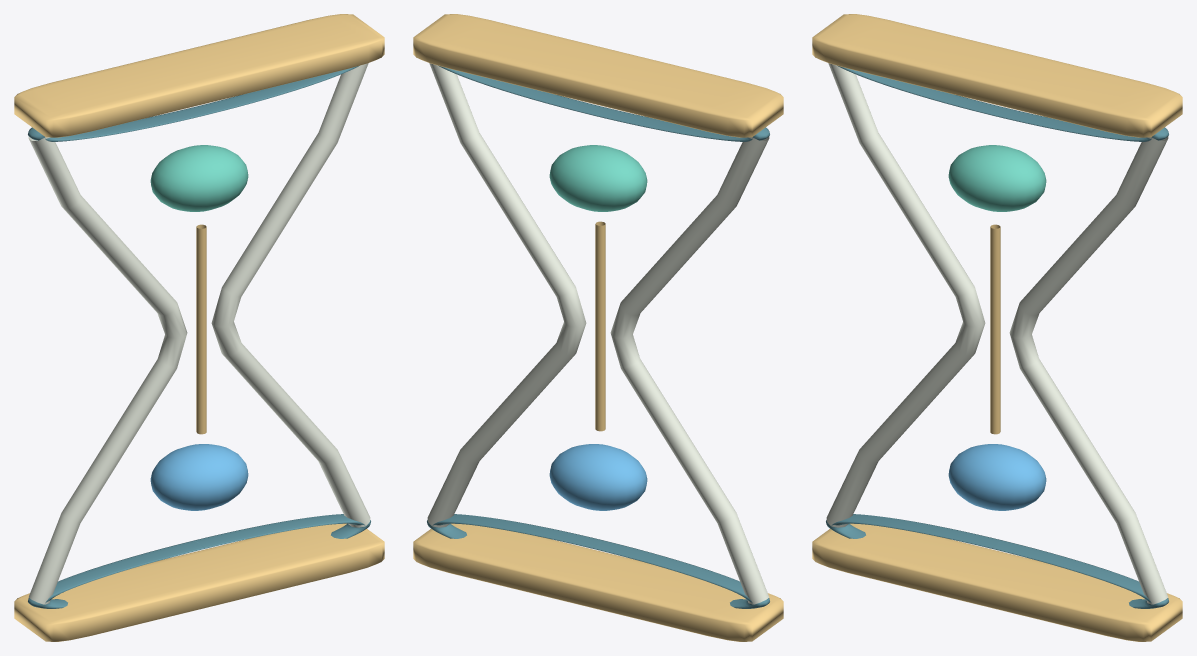
The model's file is extendedExhale.glb.
3 views of the same model, side by side, from view 1: azimuth 30°, elevation 25°; view 2: azimuth 150°, elevation 25°; view 3: azimuth 330°, elevation 25° (orthographic).
Visible parts, largest first — view 1: cap_top, cap_bottom, glass_-1, glass_1, lower_fill, upper_fill, rim_-1.25, rim_1.25, flow; view 2: cap_top, cap_bottom, glass_-1, glass_1, lower_fill, upper_fill, rim_-1.25, rim_1.25, flow; view 3: cap_top, cap_bottom, glass_1, glass_-1, lower_fill, upper_fill, rim_-1.25, rim_1.25, flow.
Part boxes in pixels (box(x1,y1,x2,y2)): cap_top: box(14, 14, 384, 137); cap_bottom: box(14, 523, 384, 641); glass_-1: box(28, 136, 187, 604); glass_1: box(211, 63, 370, 527); lower_fill: box(150, 444, 248, 510); upper_fill: box(150, 145, 248, 211); rim_-1.25: box(28, 514, 370, 608); rim_1.25: box(28, 65, 359, 141); flow: box(196, 224, 206, 434); cap_top: box(413, 14, 783, 137); cap_bottom: box(413, 523, 783, 641); glass_-1: box(610, 136, 769, 604); glass_1: box(427, 63, 586, 527); lower_fill: box(549, 444, 647, 510); upper_fill: box(549, 145, 647, 211); rim_-1.25: box(427, 514, 769, 608); rim_1.25: box(438, 65, 769, 141); flow: box(595, 221, 605, 431); cap_top: box(812, 14, 1182, 137); cap_bottom: box(812, 523, 1182, 641); glass_1: box(1009, 136, 1168, 604); glass_-1: box(826, 63, 985, 527); lower_fill: box(948, 444, 1046, 510); upper_fill: box(948, 145, 1046, 211); rim_-1.25: box(826, 514, 1168, 608); rim_1.25: box(837, 65, 1168, 141); flow: box(990, 224, 1000, 434).
Size of the model in its own units: 1.9 by 2.82 by 0.4.
